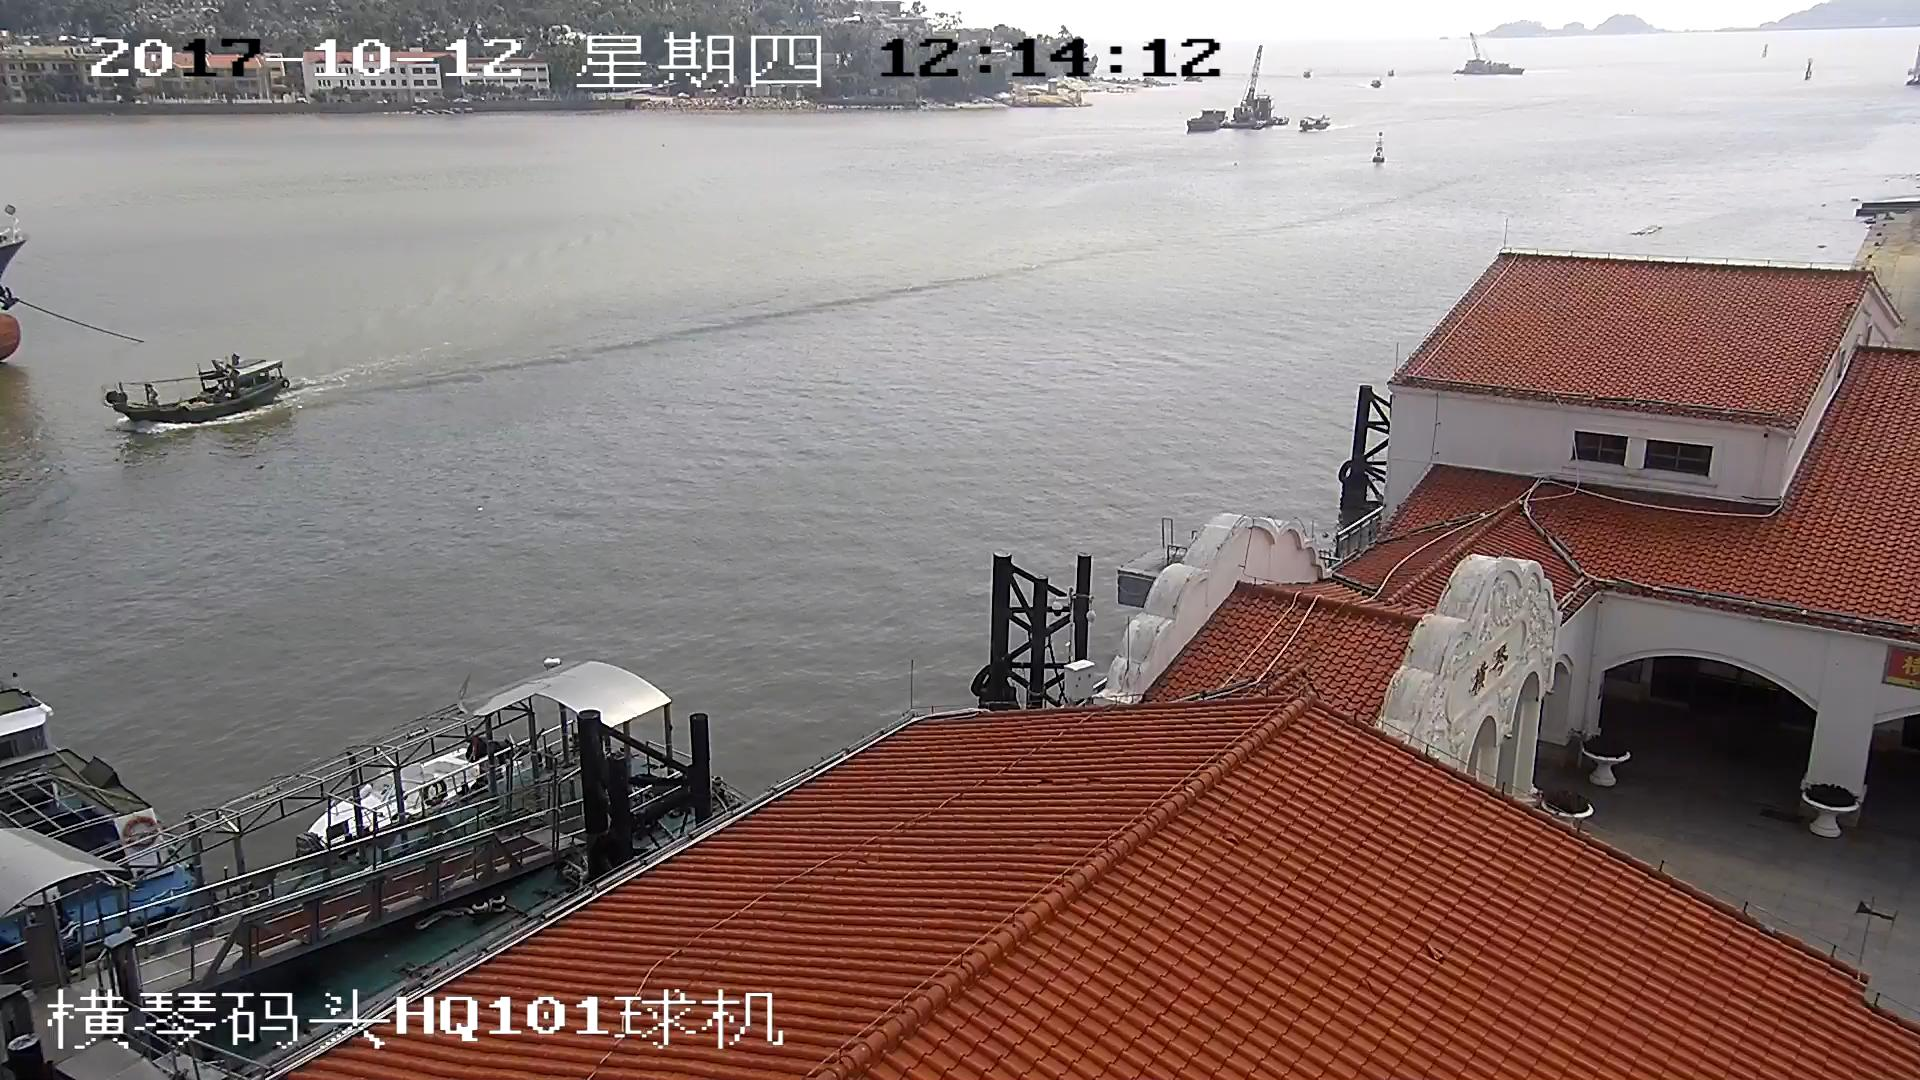fishing boat: (104, 360, 293, 417)
